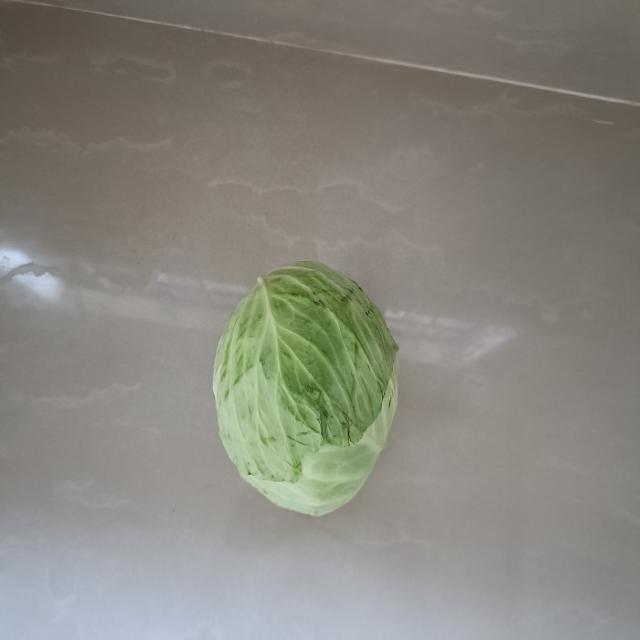cabbage: (212, 258, 401, 523)
